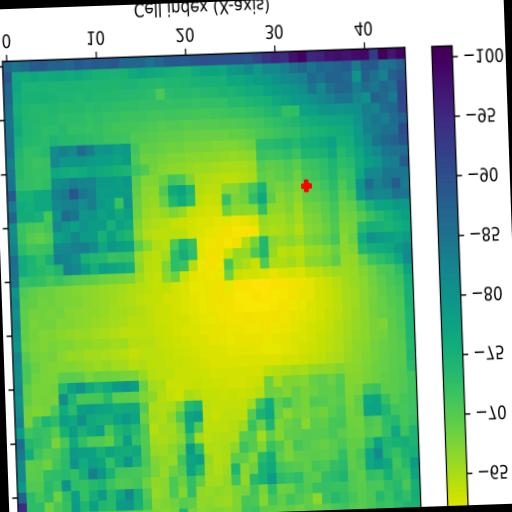Concrete: (264, 373, 348, 506)
Glass: (58, 379, 152, 512)
Metal: (256, 135, 340, 268)
Wood: (50, 142, 136, 276)
